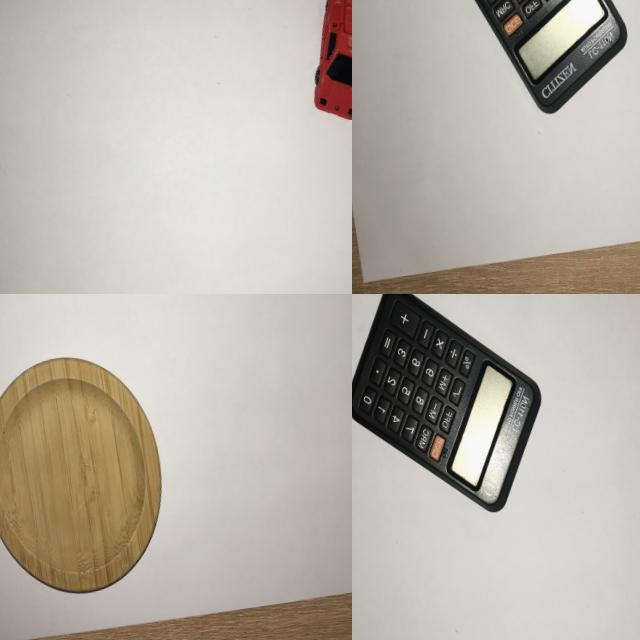calculator: (352, 294, 561, 536), (430, 0, 640, 138)
car: (290, 0, 352, 135)
cup_holder: (0, 335, 185, 613)
